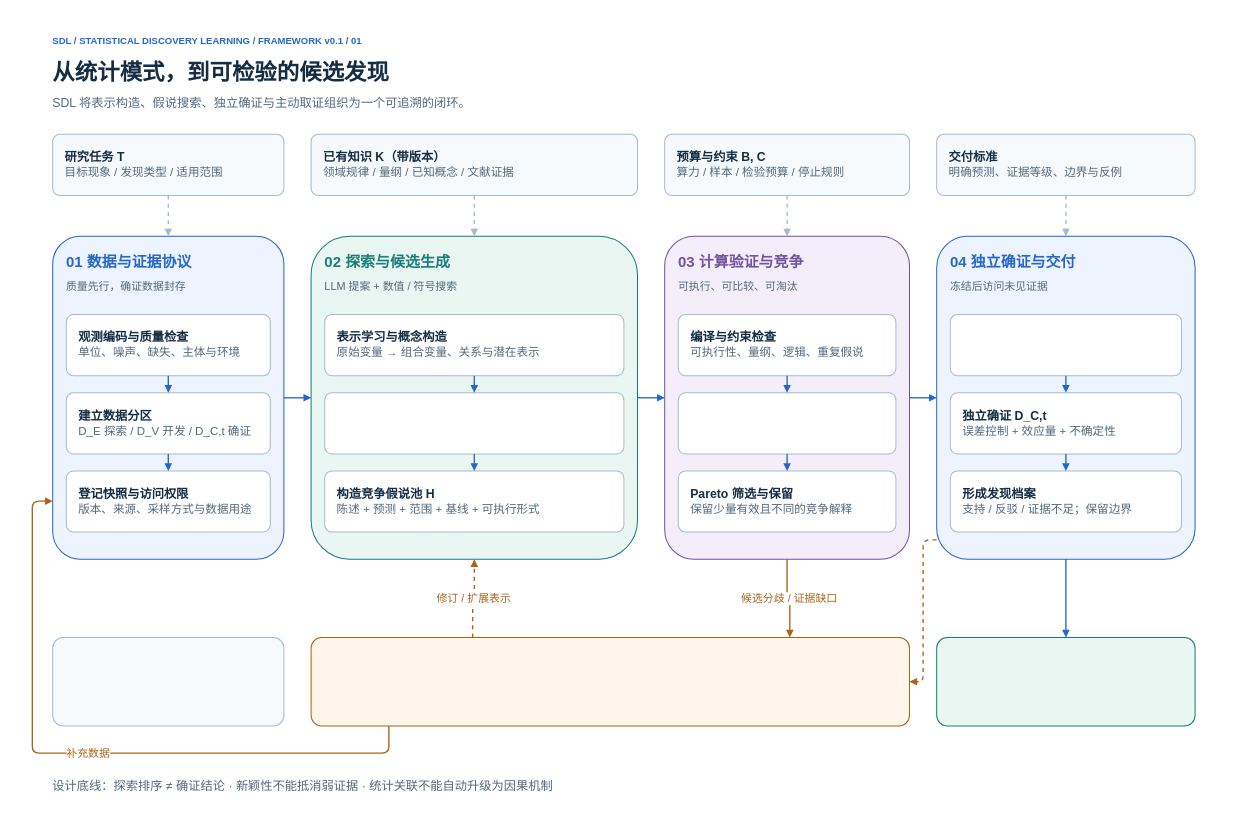
Image size: 1248x834. Some labels were removed from this diagram. The box of each missing label's shape, as (x1, y1, x2, y2) in pixels:
05 主动取证与假说修订 优先区分竞争假说、寻找反例与适用边界；按预期信息价值与成本安排新观测。 新数据先登记用途；修订创建新版本；后续确证使用新的未见数据。: (310, 637, 910, 726)
冻结假说与确证计划 版本、变换、指标、阈值、停止规则: (949, 314, 1182, 376)
可复现的候选发现 假说 + 证据 + 预测 + 适用范围 知识库更新 / 外部复现任务: (936, 637, 1195, 726)
探索与开发评估 预测增益、稳定性、复杂度、反例: (677, 392, 896, 454)
模式搜索 关系 / 方程 / 分群 / 不变量 / 变点: (324, 392, 624, 454)
贯穿全程：证据账本 数据、代码、知识、假说版本 记录成功、失败与修订原因: (52, 637, 284, 726)
